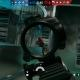Character: (34, 37, 45, 55)
Head: (37, 37, 41, 40)
